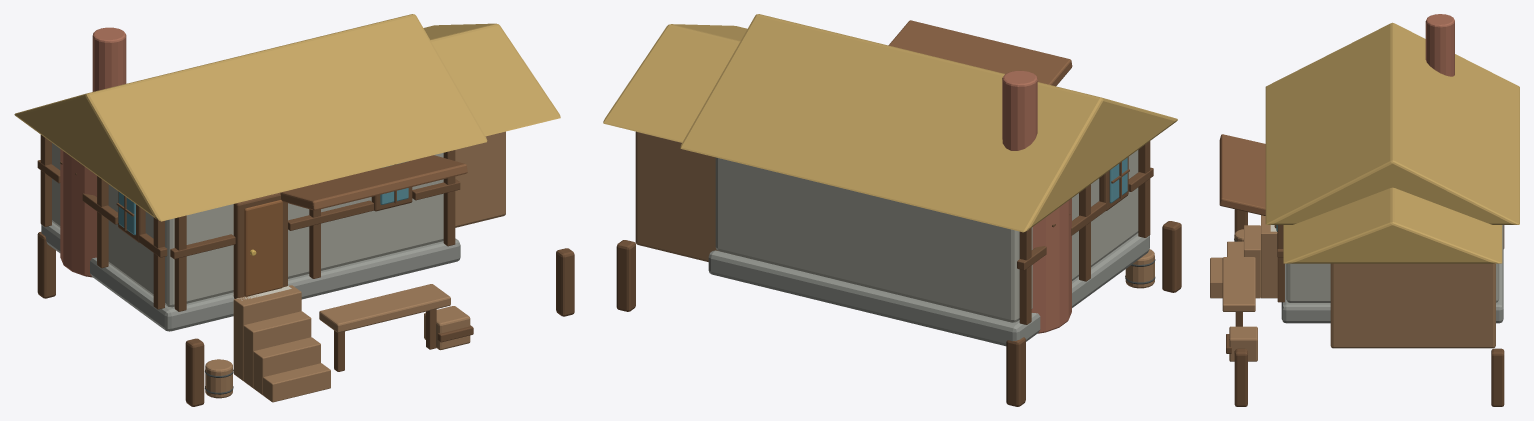
File: wetland-artisan-2.glb
3 renders of one model, left to right at view 1: azimuth 30°, elevation 25°; view 2: azimuth 150°, elevation 25°; view 3: azimuth 270°, elevation 25°, orthographic. The views are drawn at different scales.
Parts seen in each view (by area): view 1: Golden thatch, Aged oak, Dark beams, Fieldstone, Foundation stone, Chimney brick, Wood shingles, Door oak, Blue glass; view 2: Golden thatch, Fieldstone, Foundation stone, Aged oak, Dark beams, Chimney brick, Wood shingles, Blue glass; view 3: Golden thatch, Aged oak, Wood shingles, Dark beams, Fieldstone, Chimney brick, Foundation stone.
Part boxes in pixels (x1,y1,x2,y2): Golden thatch: (14,14,560,221); Aged oak: (205,131,505,402); Dark beams: (37,135,574,406); Fieldstone: (52,143,443,307); Foundation stone: (41,222,460,331); Chimney brick: (60,27,126,277); Wood shingles: (280,155,467,210); Door oak: (244,200,282,296); Blue glass: (118,161,408,235); Golden thatch: (603,14,1177,232); Fieldstone: (715,150,1138,322); Foundation stone: (708,233,1149,346); Aged oak: (635,131,1154,288); Dark beams: (616,141,1181,406); Chimney brick: (1002,70,1071,333); Wood shingles: (888,20,1072,86); Blue glass: (1109,157,1127,203); Golden thatch: (1265,22,1519,263); Aged oak: (1210,215,1495,361); Wood shingles: (1219,134,1265,215); Dark beams: (1226,209,1504,406); Fieldstone: (1286,263,1499,302); Chimney brick: (1425,14,1454,76); Foundation stone: (1281,225,1503,323).
Bounding box in the file's own units: 5.64 × 3.63 × 4.22.
